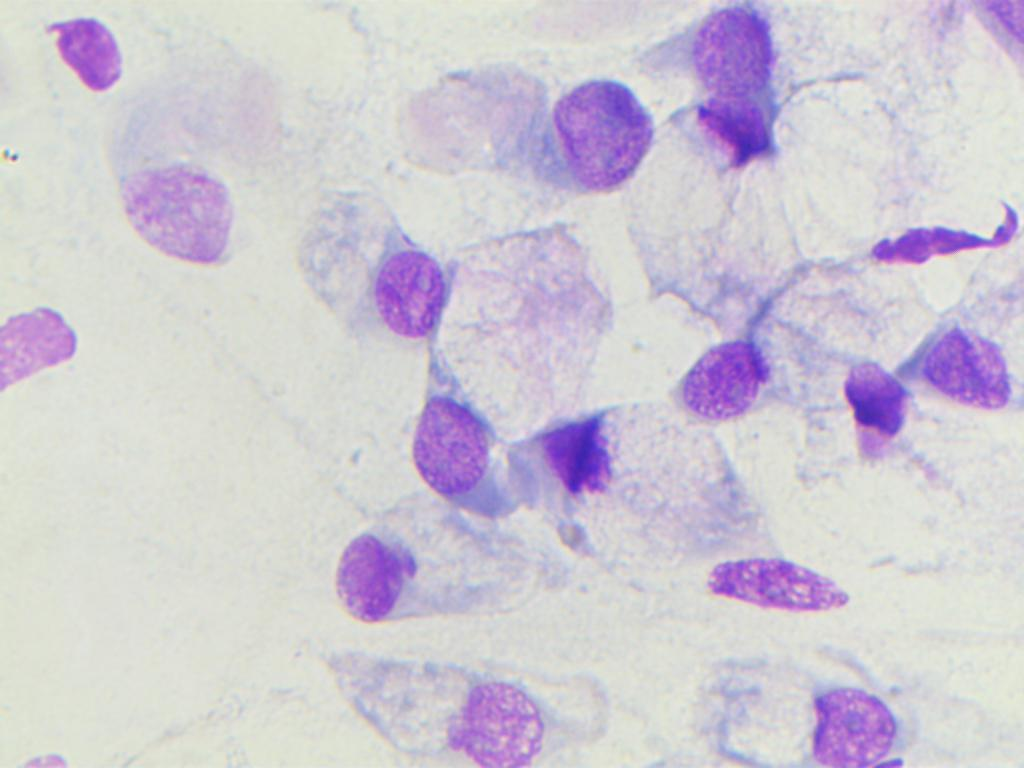artifact: (858, 206, 1020, 273), (829, 352, 913, 467), (0, 289, 79, 398), (42, 12, 137, 96)
epithelial: (295, 176, 450, 348), (105, 148, 246, 278), (919, 284, 1022, 438), (701, 549, 868, 627)
goblet_cell: (546, 386, 791, 556), (402, 304, 571, 504), (678, 2, 840, 184), (481, 68, 674, 220), (365, 634, 561, 767), (703, 644, 913, 767), (667, 282, 845, 422), (324, 512, 496, 626)
